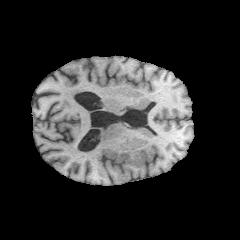glioma: (98, 147, 155, 177)
